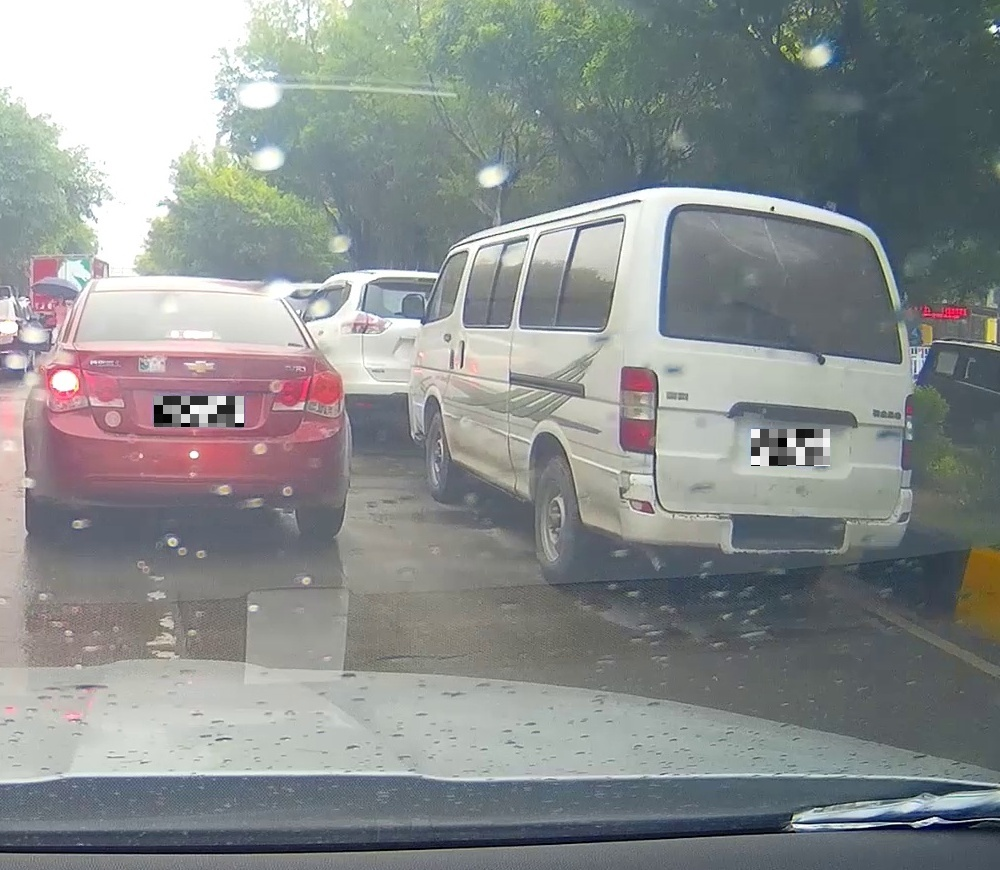L_light: (43, 364, 125, 414), (618, 366, 659, 454)
R_light: (271, 371, 345, 419), (901, 394, 914, 469)
T_light: (762, 214, 806, 231), (168, 329, 217, 340)
day-left: (22, 276, 352, 538)
day-no: (618, 186, 916, 586)
plate_1: (154, 396, 244, 427)
plate_2: (751, 429, 830, 466)
